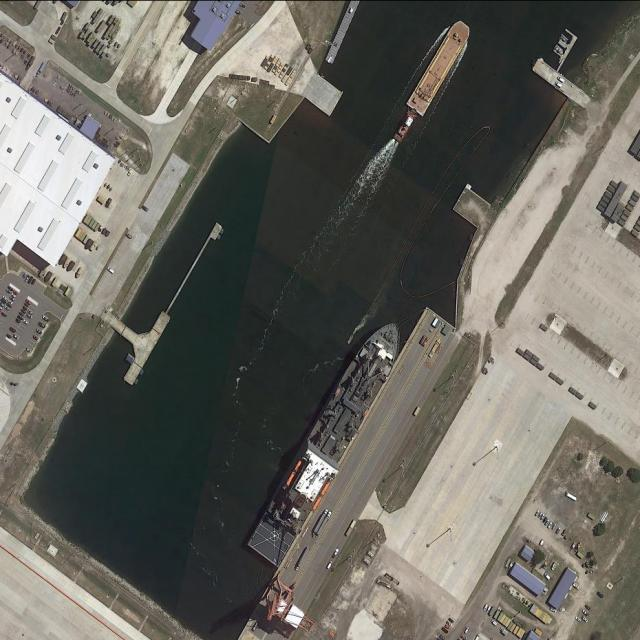Commander: (239, 308, 418, 573)
Dock: (123, 220, 226, 384)
Other Ship: (405, 18, 476, 114), (392, 107, 419, 143)
